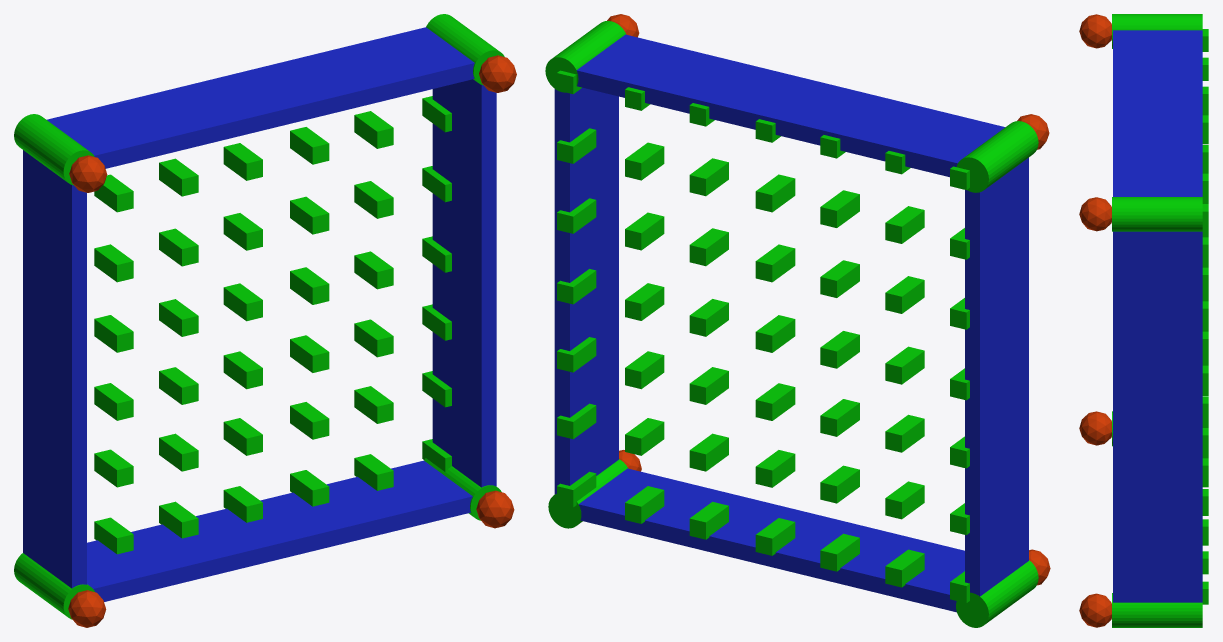
File: columned.obj
The picture shows the model from 3 angles, left to right: view 1: azimuth 30°, elevation 25°; view 2: azimuth 150°, elevation 25°; view 3: azimuth 270°, elevation 25°; orthographic projection. The views are drawn at different scales.
Visible parts, largest first — view 1: Cube.003, Cube.001, Cube.004, Cube.002, Cylinder.002, Cylinder.001, Cylinder.003, Icosphere.002, Icosphere.001, Icosphere.003, Icosphere, Cube.008 (+35 smaller); view 2: Cube.003, Cube.001, Cube.004, Cube.002, Cylinder.002, Cylinder.001, Cylinder.003, Cylinder, Cube.007, Cube.006, Cube.077, Cube.009 (+32 smaller); view 3: Cube.004, Cube.001, Cylinder.003, Cylinder, Cylinder.002, Icosphere, Icosphere.002, Icosphere.001, Icosphere.003.
Part boxes in pixels (bbox=[...]): Cube.003: bbox=[23, 150, 86, 588]; Cube.001: bbox=[46, 27, 474, 168]; Cube.004: bbox=[432, 79, 496, 487]; Cube.002: bbox=[87, 460, 472, 601]; Cylinder.002: bbox=[14, 114, 94, 185]; Cylinder.001: bbox=[14, 553, 94, 619]; Cylinder.003: bbox=[426, 14, 504, 85]; Icosphere.002: bbox=[476, 490, 514, 528]; Icosphere.001: bbox=[479, 55, 516, 92]; Icosphere.003: bbox=[68, 590, 106, 627]; Icosphere: bbox=[69, 155, 107, 192]; Cube.008: bbox=[159, 299, 198, 336]; Cube.003: bbox=[965, 157, 1028, 596]; Cube.001: bbox=[576, 34, 1005, 177]; Cube.004: bbox=[554, 87, 618, 494]; Cube.002: bbox=[578, 468, 964, 612]; Cylinder.002: bbox=[956, 121, 1038, 192]; Cylinder.001: bbox=[956, 560, 1038, 627]; Cylinder.003: bbox=[545, 21, 625, 92]; Cylinder: bbox=[548, 459, 628, 528]; Cube.007: bbox=[755, 244, 795, 282]; Cube.006: bbox=[755, 383, 795, 420]; Cube.077: bbox=[755, 174, 795, 212]; Cube.009: bbox=[755, 315, 795, 352]; Cube.004: bbox=[1113, 231, 1202, 602]; Cube.001: bbox=[1113, 30, 1202, 196]; Cylinder.003: bbox=[1112, 197, 1202, 231]; Cylinder: bbox=[1112, 593, 1202, 627]; Cylinder.002: bbox=[1112, 14, 1202, 48]; Icosphere: bbox=[1079, 14, 1111, 48]; Icosphere.002: bbox=[1079, 593, 1111, 627]; Icosphere.001: bbox=[1079, 197, 1111, 231]; Icosphere.003: bbox=[1079, 411, 1111, 445].
Size of the model in its own units: 26.85 by 27.16 by 7.42.
